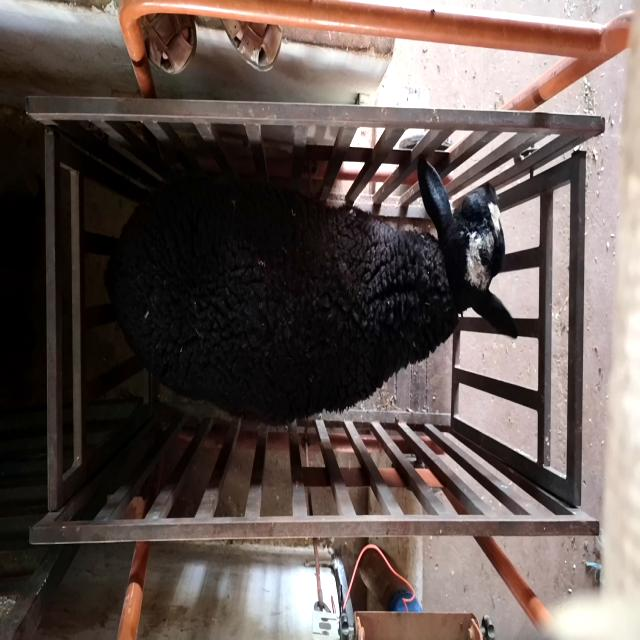sheep: (104, 159, 519, 426)
